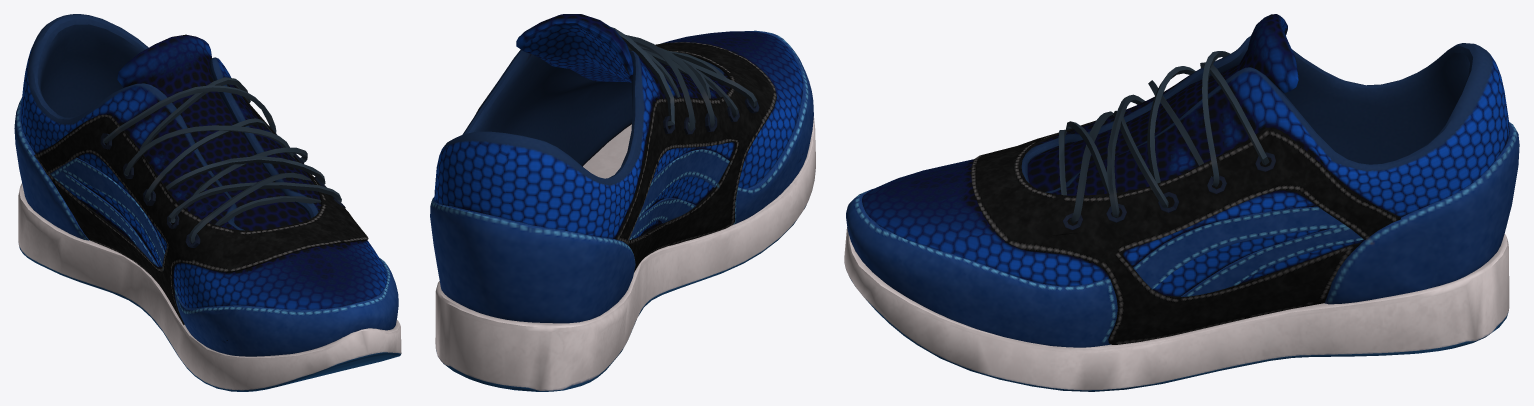
Rendered from shoes 1.glb.
3 views of the same model, side by side, from view 1: azimuth 30°, elevation 25°; view 2: azimuth 150°, elevation 25°; view 3: azimuth 270°, elevation 25° (orthographic). The views are drawn at different scales.
Parts seen in each view (by area): view 1: Shoe_1_L; view 2: Shoe_1_L; view 3: Shoe_1_L.
Part boxes in pixels (x1,y1,x2,y2): Shoe_1_L: (14,14,401,391); Shoe_1_L: (430,14,815,391); Shoe_1_L: (844,14,1519,391).
Size of the model in its own units: 0.0975 by 0.1257 by 0.2453.
Materials: 1 (1 with a texture image).
